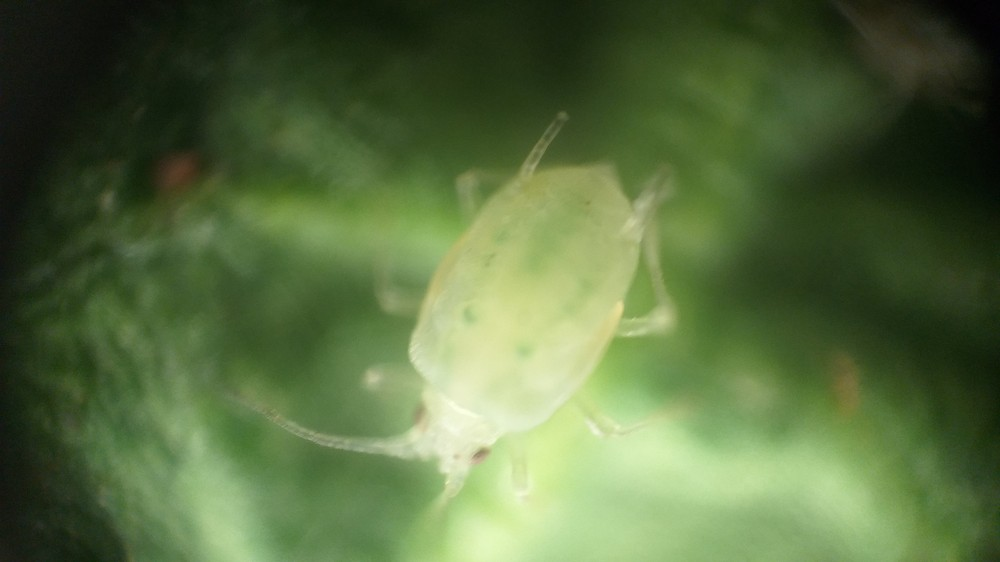Pulgon: (240, 90, 736, 557)
